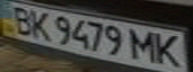4: (66, 17, 90, 51)
7: (84, 19, 106, 53)
9: (48, 13, 75, 46), (103, 23, 127, 57)
B: (3, 3, 39, 36)
K: (151, 31, 187, 69), (24, 8, 54, 41)
M: (127, 27, 160, 63)
